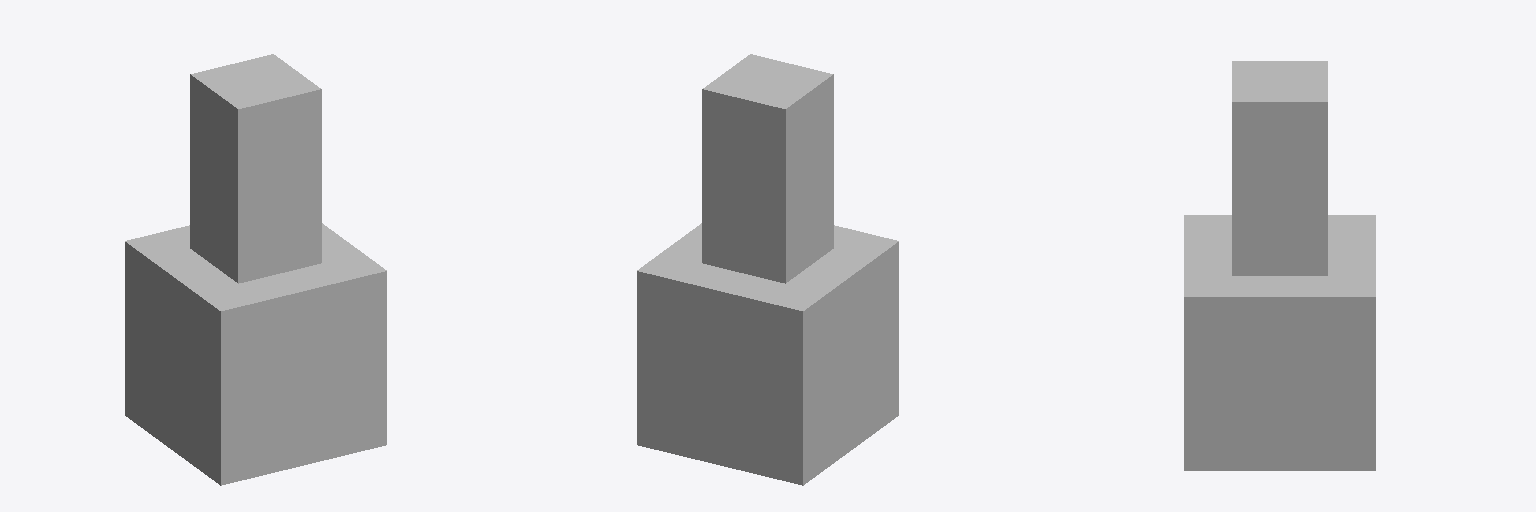
The model's file is debug.obj.
3 views of the same model, side by side, from view 1: azimuth 30°, elevation 25°; view 2: azimuth 150°, elevation 25°; view 3: azimuth 270°, elevation 25° (orthographic).
Visible parts, largest first — view 1: Cube.001; view 2: Cube.001; view 3: Cube.001.
Boxes of the visible parts, box(x1,y1,x2,y2) form: Cube.001: box(125, 54, 386, 485); Cube.001: box(637, 54, 898, 485); Cube.001: box(1184, 61, 1375, 470).
Size of the model in its own units: 2 by 4 by 2.